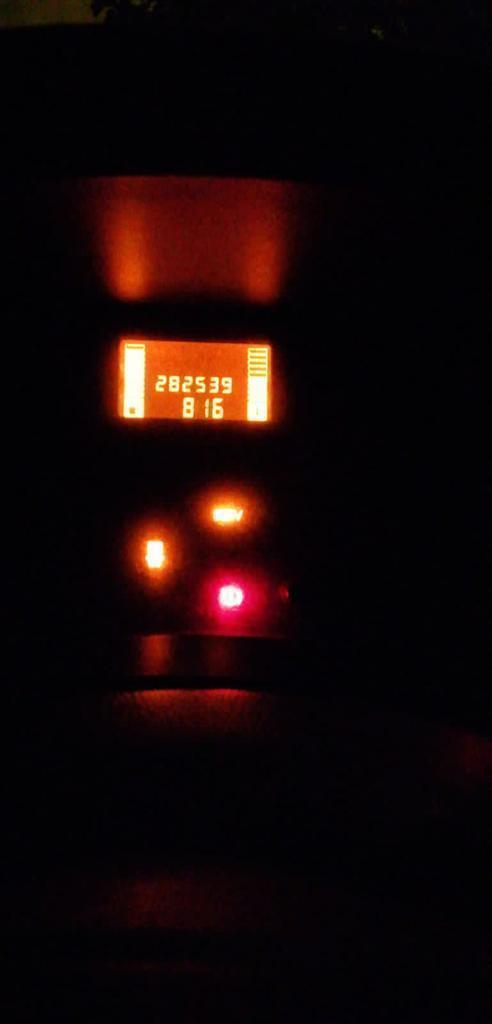1: (203, 397, 209, 418)
2: (154, 374, 166, 392), (181, 375, 193, 392)
3: (209, 375, 219, 393)
5: (194, 375, 206, 393)
6: (211, 397, 224, 418)
8: (182, 395, 194, 418), (168, 375, 180, 392)
9: (221, 376, 232, 394)
odometer: (108, 332, 279, 427)
